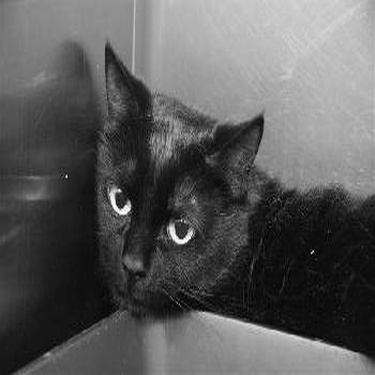cat: (80, 34, 373, 373)
